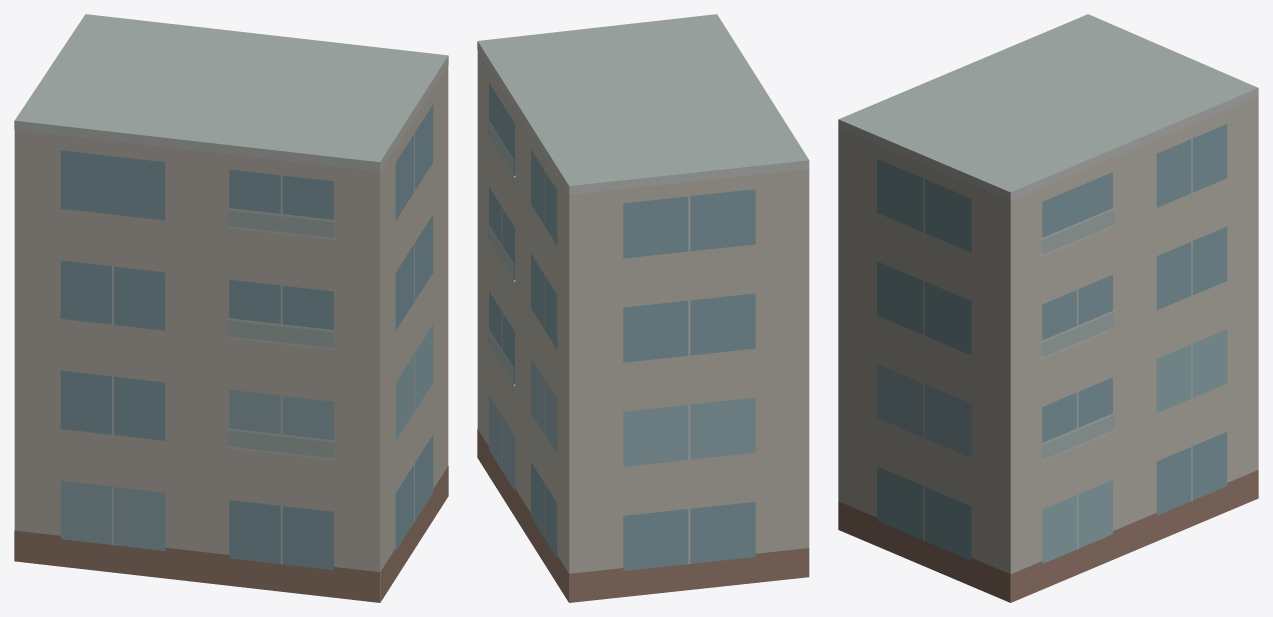
File: survey-upis-32906026.glb
3 views of the same model, side by side, from view 1: azimuth 30°, elevation 25°; view 2: azimuth 150°, elevation 25°; view 3: azimuth 270°, elevation 25° (orthographic). The views are drawn at different scales.
Parts seen in each view (by area): view 1: survey-upis-32906026.tmp; view 2: survey-upis-32906026.tmp; view 3: survey-upis-32906026.tmp.
Boxes of the visible parts, x1,y1,x2,y2 form: survey-upis-32906026.tmp: (14, 14, 448, 602); survey-upis-32906026.tmp: (477, 14, 809, 602); survey-upis-32906026.tmp: (838, 14, 1258, 602).
Size of the model in its own units: 10.82 by 11.6 by 10.77.
